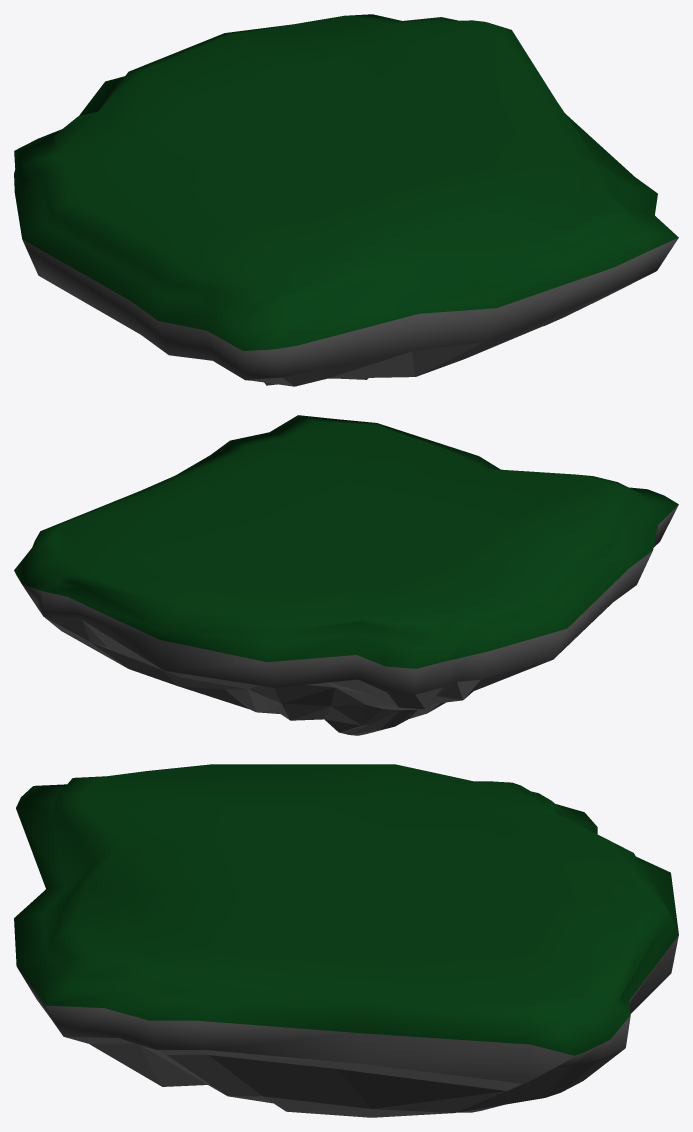
The model's file is Plataforma_1.FBX.
The picture shows the model from 3 angles, top to bottom: view 1: azimuth 30°, elevation 25°; view 2: azimuth 150°, elevation 25°; view 3: azimuth 270°, elevation 25°; orthographic projection. The views are drawn at different scales.
Parts seen in each view (by area): view 1: Box025; view 2: Box025; view 3: Box025.
Boxes of the visible parts, box(x1,y1,x2,y2) form: Box025: box(14, 14, 678, 386); Box025: box(14, 415, 678, 735); Box025: box(14, 764, 678, 1117).
Bounding box in the file's own units: 38.43 × 14.17 × 38.37.
